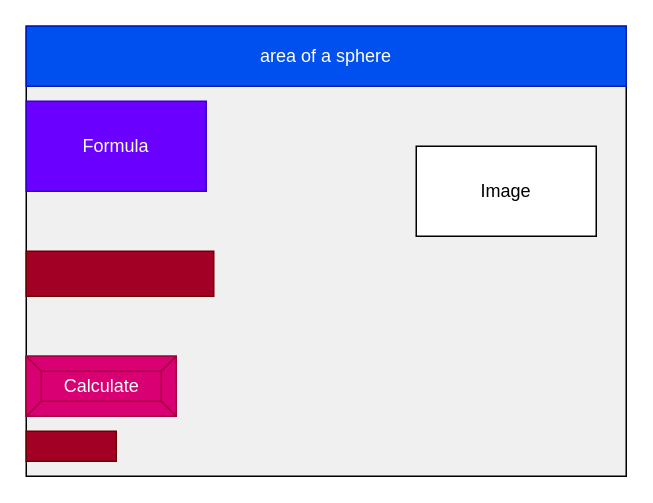
This 653x503 diagram has some shape labels left out. The shapes that lost their labels are listed below. From the top down, each one's box as (x1, y1, x2, y2) in pixels, then its label:
(25, 250, 214, 296): Enter Radius
(25, 430, 116, 461): Answer
